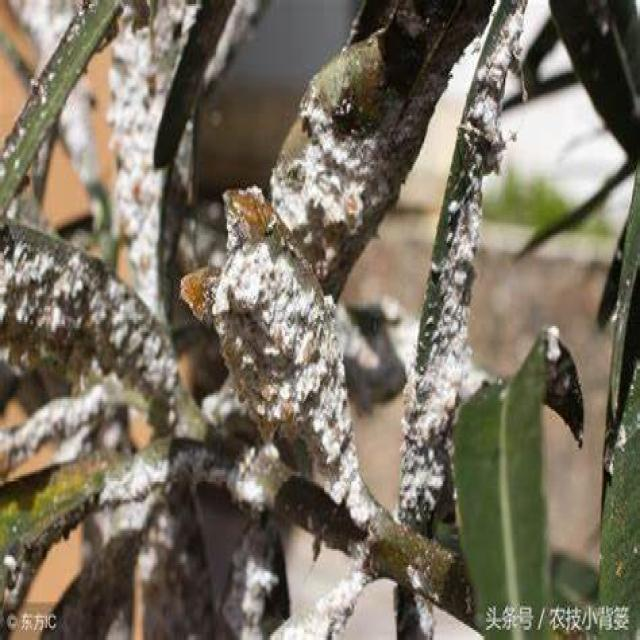Psyllid: (398, 0, 524, 525), (211, 245, 393, 547), (0, 221, 182, 434), (270, 96, 425, 290), (108, 28, 178, 324), (0, 395, 105, 480), (268, 569, 368, 638), (101, 439, 170, 506)
